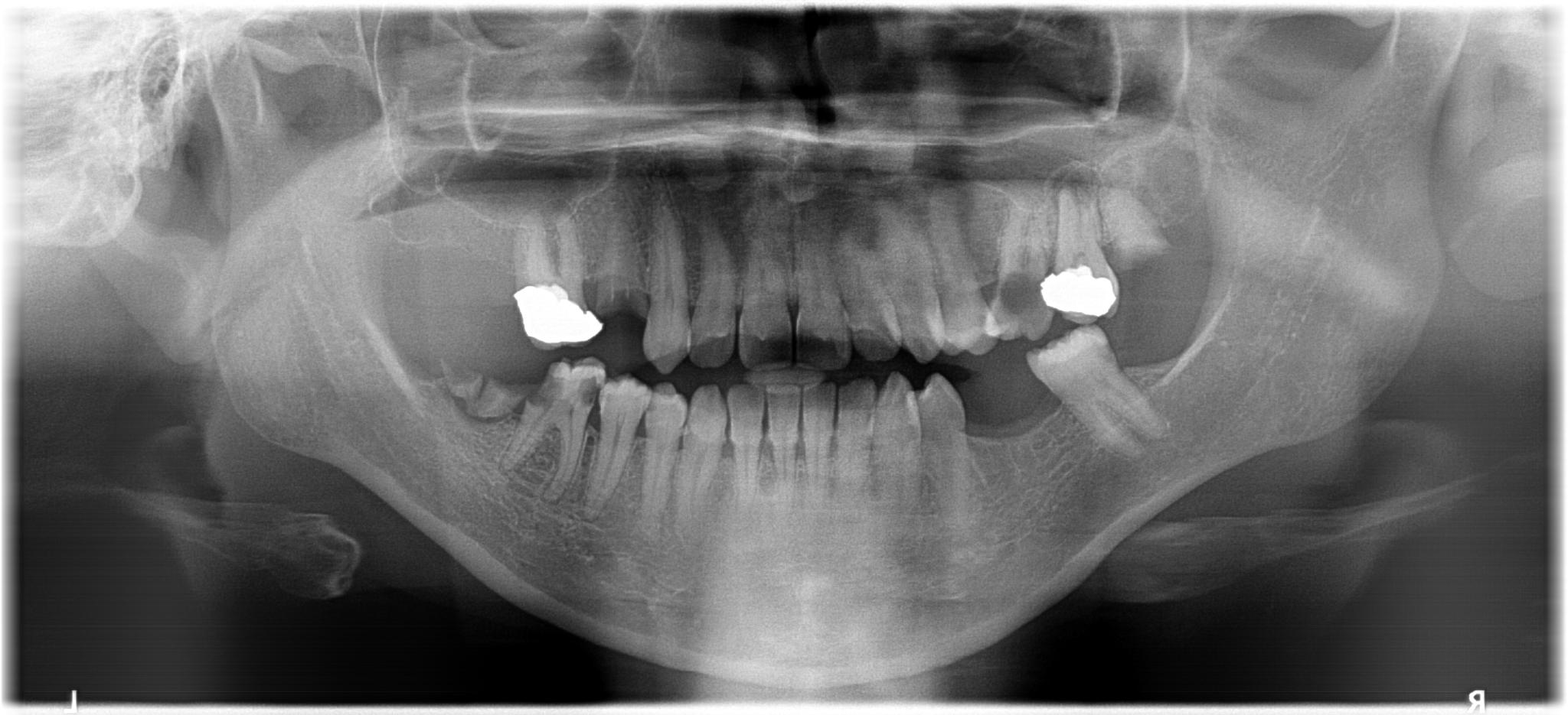Premolars: (335, 255, 1026, 654), (282, 258, 893, 628), (525, 171, 1568, 384), (231, 238, 774, 621), (563, 156, 1568, 358), (610, 149, 1568, 337), (550, 117, 1568, 292), (330, 178, 971, 407), (297, 177, 883, 407), (303, 134, 872, 323)
